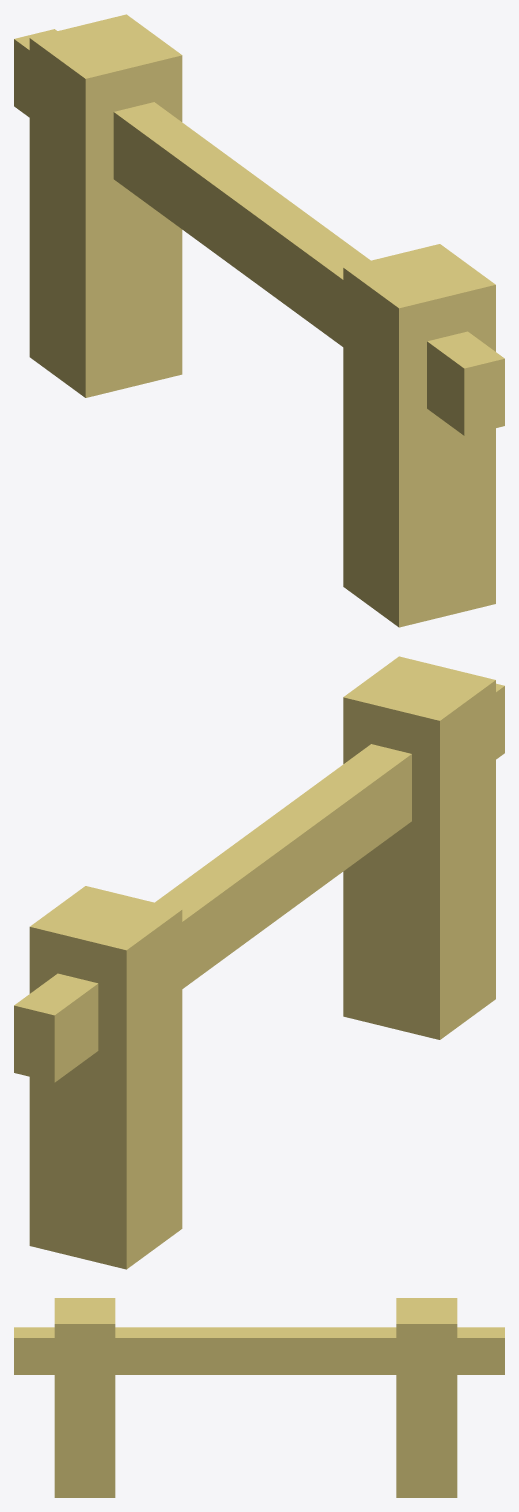
Rendered from barriere1.fbx.
3 views of the same model, one above another, from view 1: azimuth 30°, elevation 25°; view 2: azimuth 150°, elevation 25°; view 3: azimuth 270°, elevation 25° (orthographic). The views are drawn at different scales.
Visible parts, largest first — view 1: Cube.004; view 2: Cube.004; view 3: Cube.004.
Boxes of the visible parts, x1,y1,x2,y2 form: Cube.004: (14, 14, 504, 627); Cube.004: (14, 656, 504, 1269); Cube.004: (14, 1298, 504, 1497).
Bounding box in the file's own units: 48.7 × 153 × 392.
